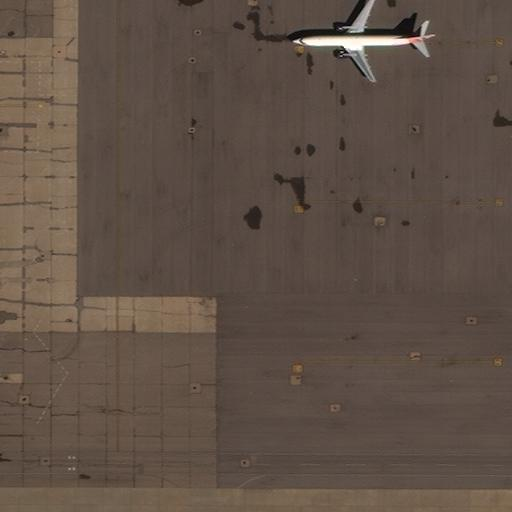Medium Civil Transport: (291, 0, 436, 83)
